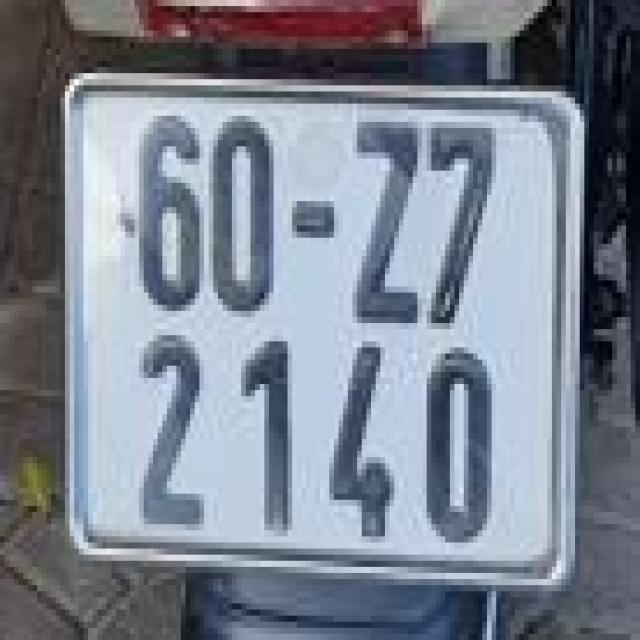0: (411, 338, 504, 564), (207, 110, 286, 323)
1: (232, 329, 306, 555)
2: (132, 308, 206, 533)
4: (325, 329, 408, 555)
6: (132, 107, 211, 314)
7: (422, 98, 501, 335)
Z: (339, 110, 422, 341)
